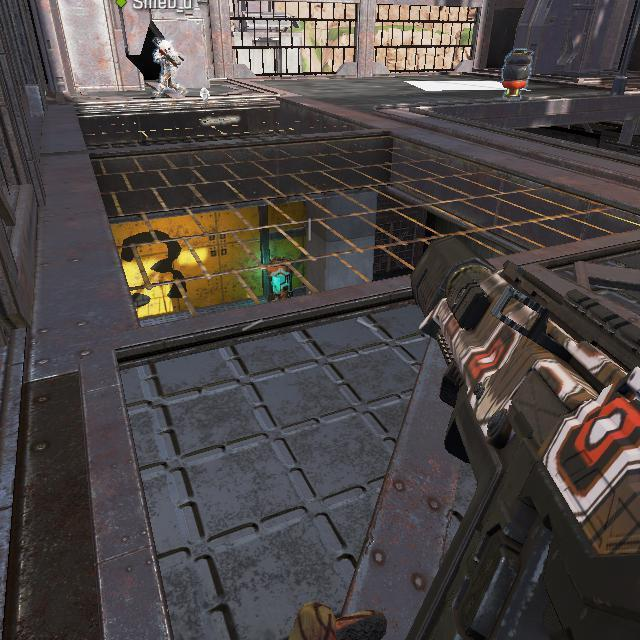avatar: (149, 35, 189, 100)
